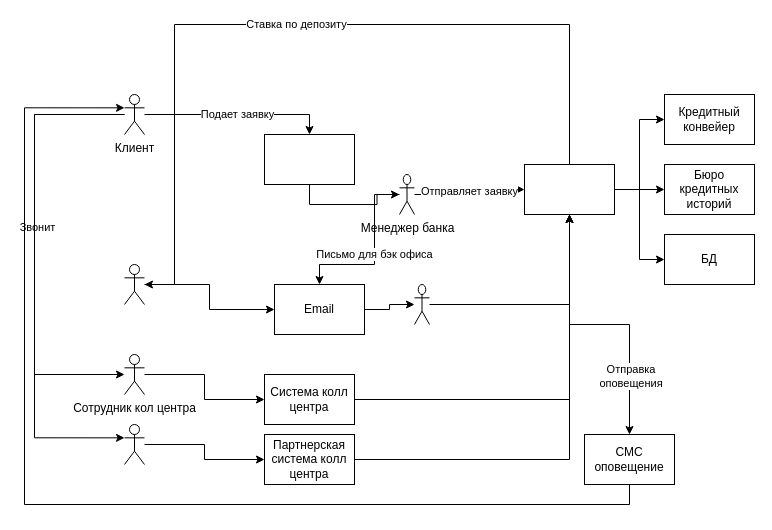
The diagram is 772 pixels wide and 530 high, and some of its shapes have lost their labels. The box of each missing label's shape, as (x1, y1, x2, y2) in pixels:
АБС: (524, 164, 614, 214)
Отделение банка: (264, 134, 354, 184)
Сотрудник бэк офиса: (414, 284, 430, 324)
Сотрудник отдела кредитования: (124, 264, 144, 304)
Сотрудник партнерского кол центра: (124, 424, 144, 464)
